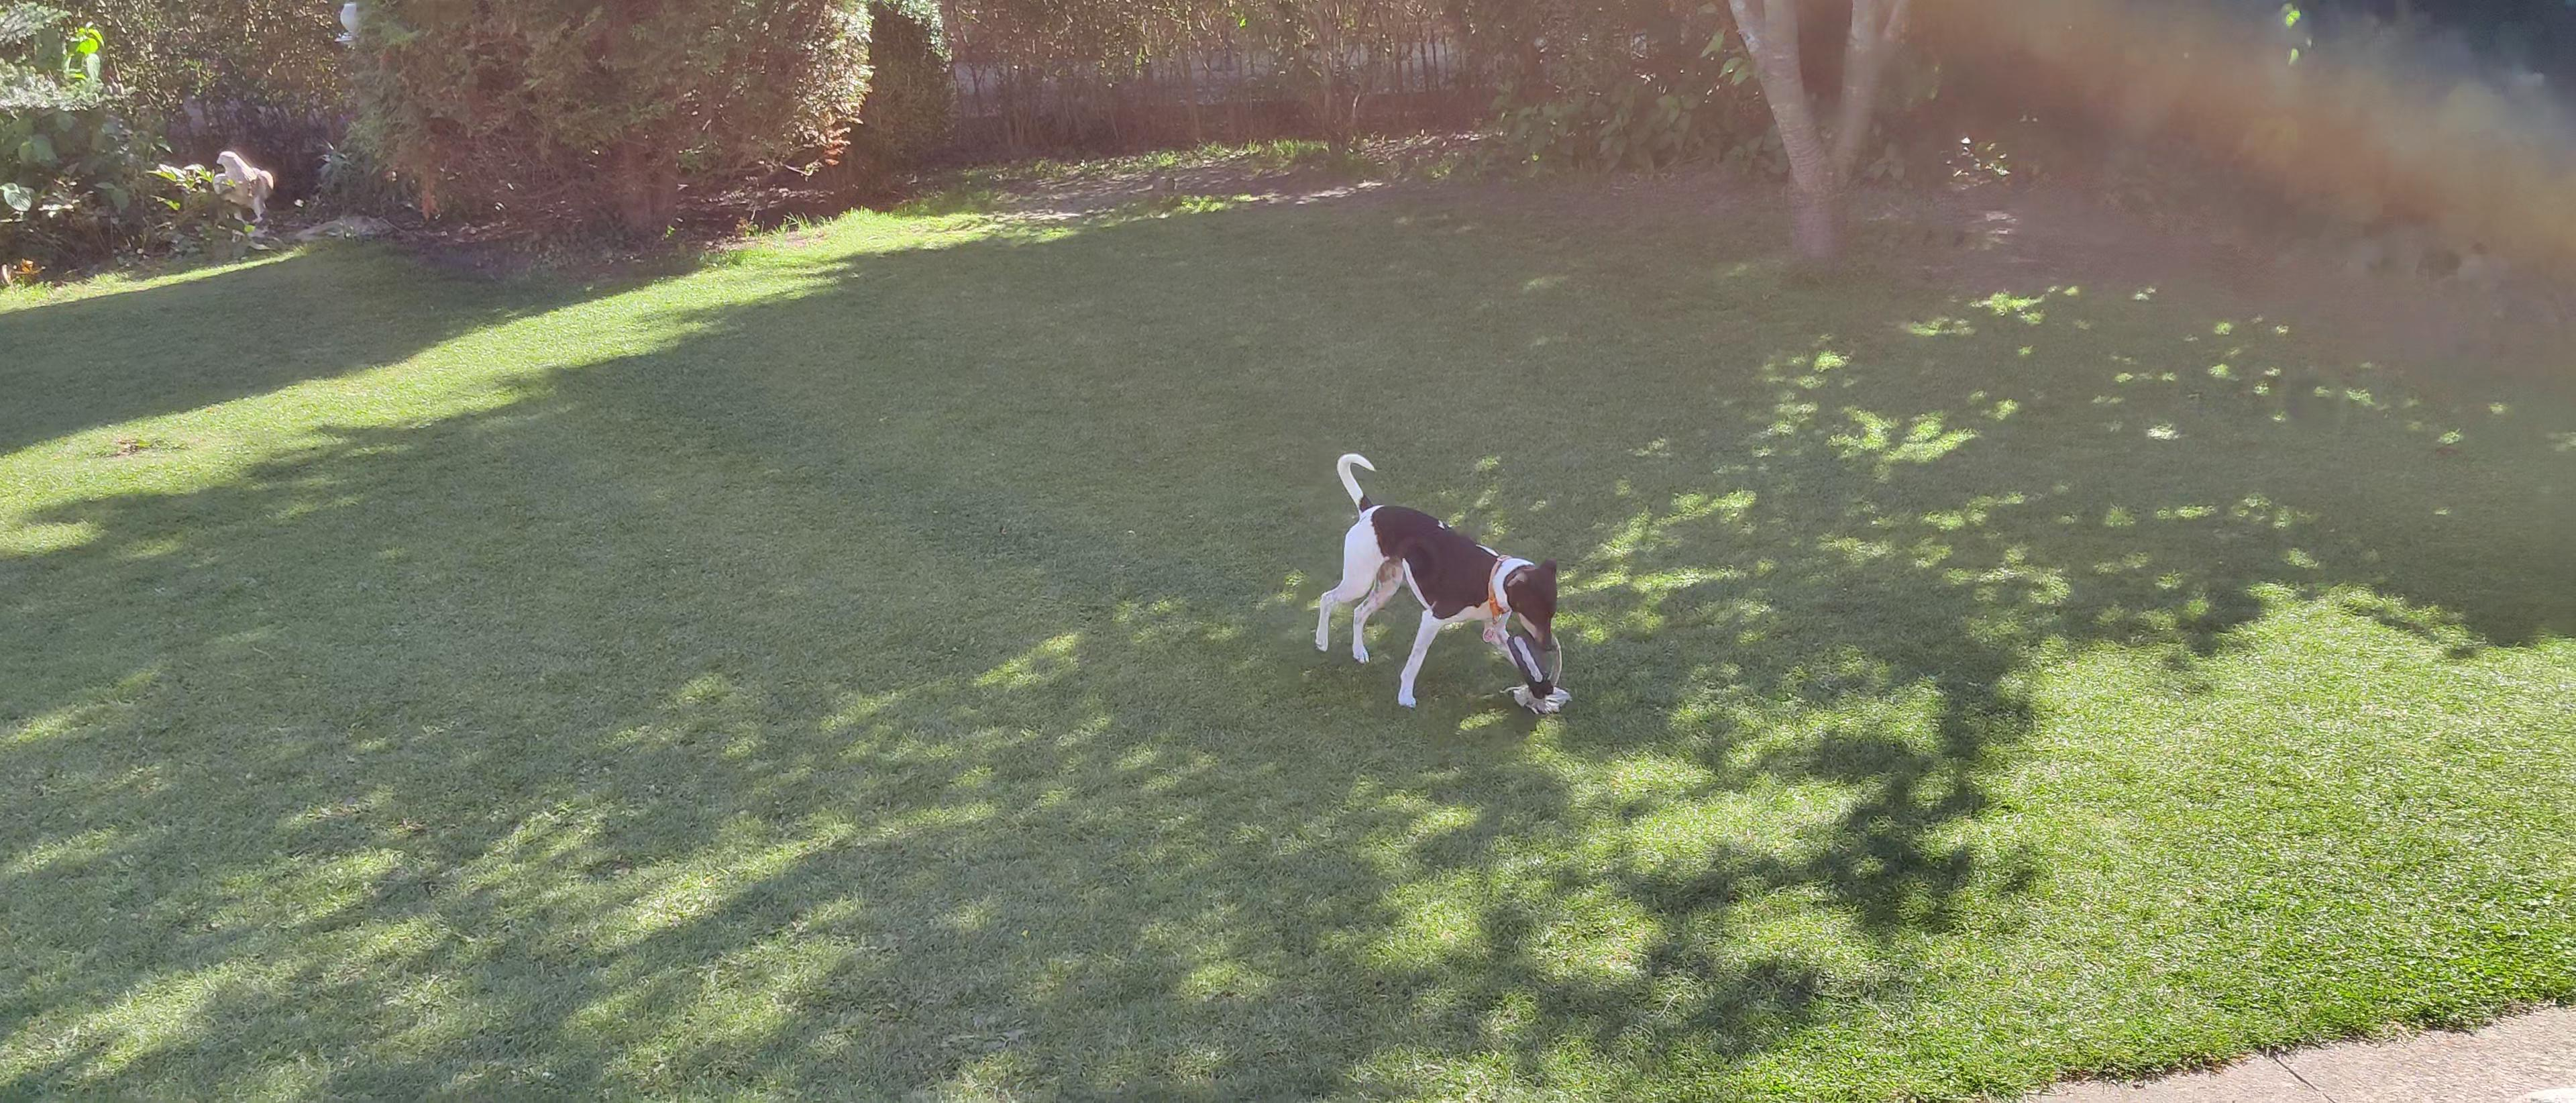Dog: (1304, 444, 1567, 715)
